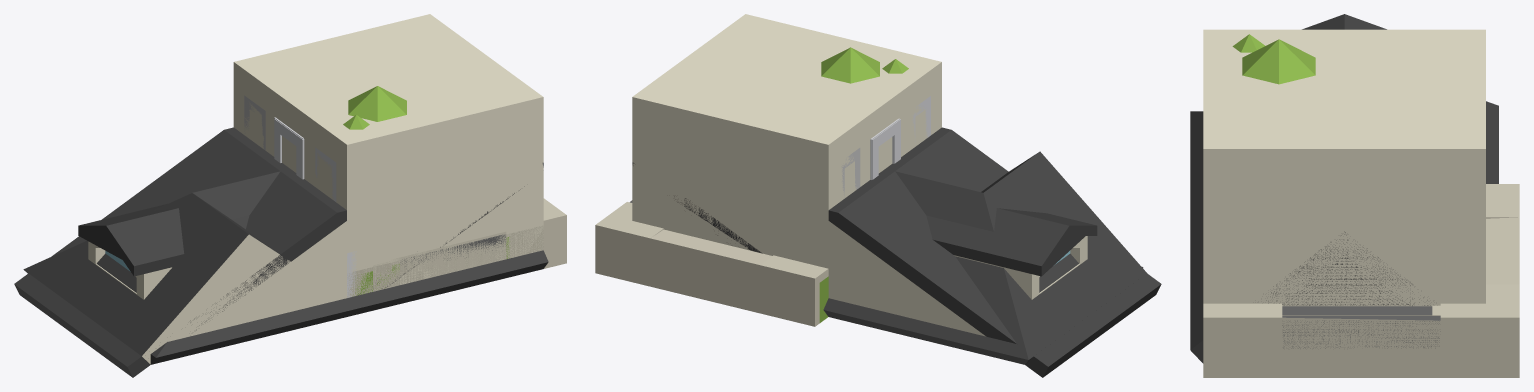
The picture shows the model from 3 angles, left to right: view 1: azimuth 30°, elevation 25°; view 2: azimuth 150°, elevation 25°; view 3: azimuth 270°, elevation 25°; orthographic projection. The views are drawn at different scales.
Visible parts, largest first — view 1: Shape:5, Shape:16, Shape:60, Shape:67, Shape:61, Shape:54, Shape:49, Shape:53, Shape:64, Shape:4, Shape:10, Shape:38 (+10 smaller); view 2: Shape:5, Shape:60, Shape:88, Shape:67, Shape:16, Shape:54, Shape:49, Shape:53, Shape:10, Shape:64, Shape:93, Shape:47 (+3 smaller); view 3: Shape:5, Shape:88, Shape:16, Shape:38, Shape:57, Shape:89, Shape:93, Shape:64, Shape:56, Shape:60, Shape:49, Shape:90.
Part boxes in pixels (x1,y1,x2,y2): Shape:5: [233, 14, 543, 273]; Shape:16: [234, 107, 543, 296]; Shape:60: [23, 193, 248, 355]; Shape:67: [14, 130, 335, 365]; Shape:61: [142, 234, 330, 364]; Shape:54: [191, 221, 346, 335]; Shape:49: [78, 203, 249, 276]; Shape:53: [14, 127, 346, 377]; Shape:64: [150, 298, 351, 364]; Shape:4: [347, 225, 543, 297]; Shape:10: [233, 62, 346, 208]; Shape:38: [388, 180, 543, 287]; Shape:5: [632, 14, 941, 268]; Shape:60: [823, 151, 1146, 364]; Shape:88: [595, 202, 828, 326]; Shape:67: [840, 131, 1160, 365]; Shape:16: [632, 108, 940, 268]; Shape:54: [828, 221, 985, 336]; Shape:49: [926, 208, 1097, 275]; Shape:53: [828, 127, 1161, 377]; Shape:10: [828, 62, 941, 208]; Shape:64: [823, 267, 1143, 364]; Shape:93: [821, 47, 879, 83]; Shape:47: [839, 211, 1041, 276]; Shape:5: [1203, 29, 1485, 306]; Shape:88: [1203, 184, 1519, 377]; Shape:16: [1203, 203, 1485, 306]; Shape:38: [1203, 231, 1485, 306]; Shape:57: [1190, 225, 1430, 363]; Shape:89: [1282, 306, 1440, 348]; Shape:93: [1242, 39, 1315, 84]; Shape:64: [1190, 111, 1498, 230]; Shape:56: [1282, 254, 1410, 305]; Shape:60: [1486, 101, 1498, 183]; Shape:49: [1302, 14, 1386, 29]; Shape:90: [1232, 34, 1265, 52].
Size of what is drawn, in the model's own units: 2.24 by 0.9867 by 1.16.
